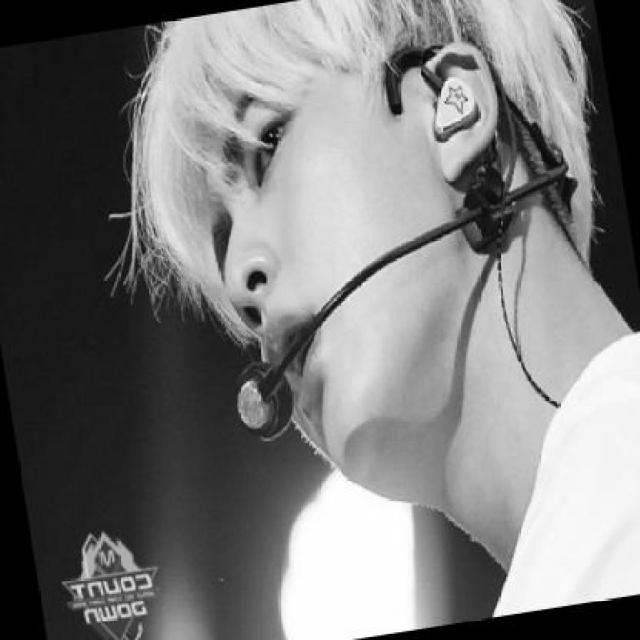earphone: (419, 69, 498, 143)
